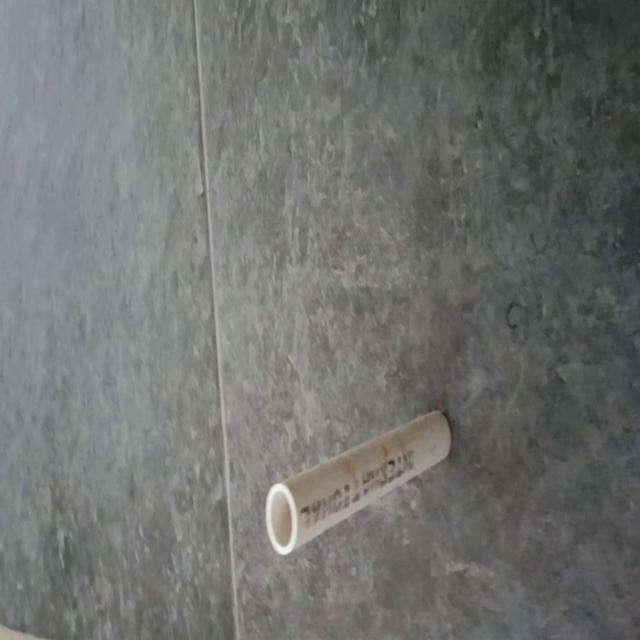Cube: (264, 407, 452, 557)
